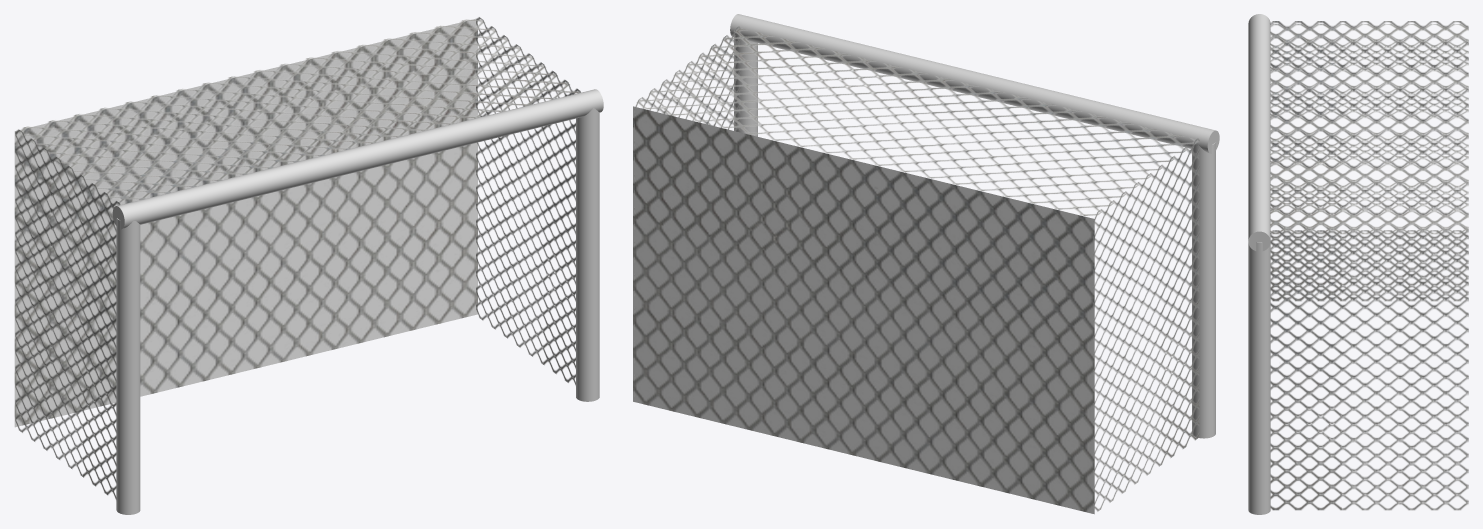
Rendered from football_goal_post.glb.
3 renders of one model, left to right at view 1: azimuth 30°, elevation 25°; view 2: azimuth 150°, elevation 25°; view 3: azimuth 270°, elevation 25°, orthographic. The views are drawn at different scales.
Parts seen in each view (by area): view 1: Object_13, Object_11, Object_17, Object_9, Object_7, Object_15, Object_5; view 2: Object_13, Object_11, Object_17, Object_9, Object_15, Object_7, Object_5; view 3: Object_7, Object_17, Object_11, Object_5, Object_9.
Boxes of the visible parts, x1,y1,x2,y2 form: Object_13: (14,18,477,427); Object_11: (18,19,579,205); Object_17: (15,129,120,499); Object_9: (112,89,603,229); Object_7: (476,17,580,385); Object_15: (116,218,140,514); Object_5: (576,108,599,401); Object_13: (633,106,1094,514); Object_11: (636,29,1198,215); Object_17: (1093,138,1199,511); Object_9: (730,14,1219,153); Object_15: (1192,142,1215,438); Object_7: (634,26,740,396); Object_5: (734,33,757,136); Object_7: (1270,230,1468,510); Object_17: (1270,21,1468,301); Object_11: (1270,24,1468,234); Object_5: (1248,242,1270,514); Object_9: (1248,14,1270,250).
Size of the model in its own units: 0.9307 by 0.5656 by 0.397.
6 materials, 6 textured.
